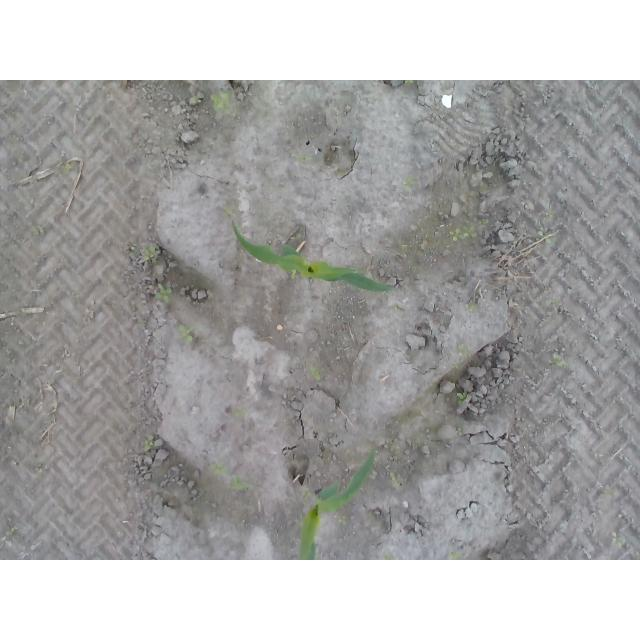Maize: (229, 219, 393, 293), (298, 450, 377, 560)
Weeds: (448, 226, 477, 243), (209, 90, 231, 111), (231, 477, 254, 492), (176, 322, 193, 342), (141, 244, 159, 261), (536, 227, 553, 245), (158, 287, 173, 305), (553, 352, 568, 366), (212, 463, 229, 475), (143, 434, 155, 451), (308, 367, 320, 381), (612, 532, 624, 546), (30, 225, 45, 236), (456, 390, 469, 401), (451, 552, 463, 561), (301, 487, 311, 497), (337, 516, 347, 525)
